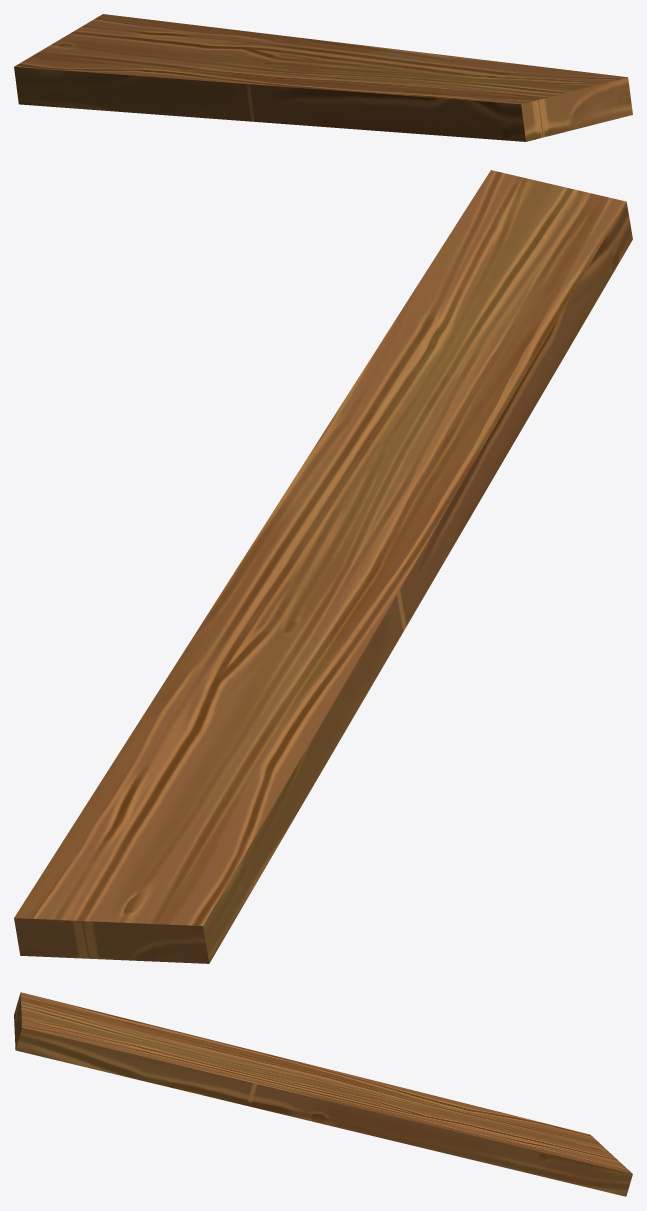
The picture shows the model from 3 angles, top to bottom: view 1: azimuth 30°, elevation 25°; view 2: azimuth 150°, elevation 25°; view 3: azimuth 270°, elevation 25°; orthographic projection. The views are drawn at different scales.
Visible parts, largest first — view 1: Cube.571; view 2: Cube.571; view 3: Cube.571.
Boxes of the visible parts, x1,y1,x2,y2 form: Cube.571: (14,14,632,141); Cube.571: (14,170,632,963); Cube.571: (14,992,632,1196).
Size of the model in its own units: 48.32 by 69.19 by 202.
Materials: 1 (1 with a texture image).
